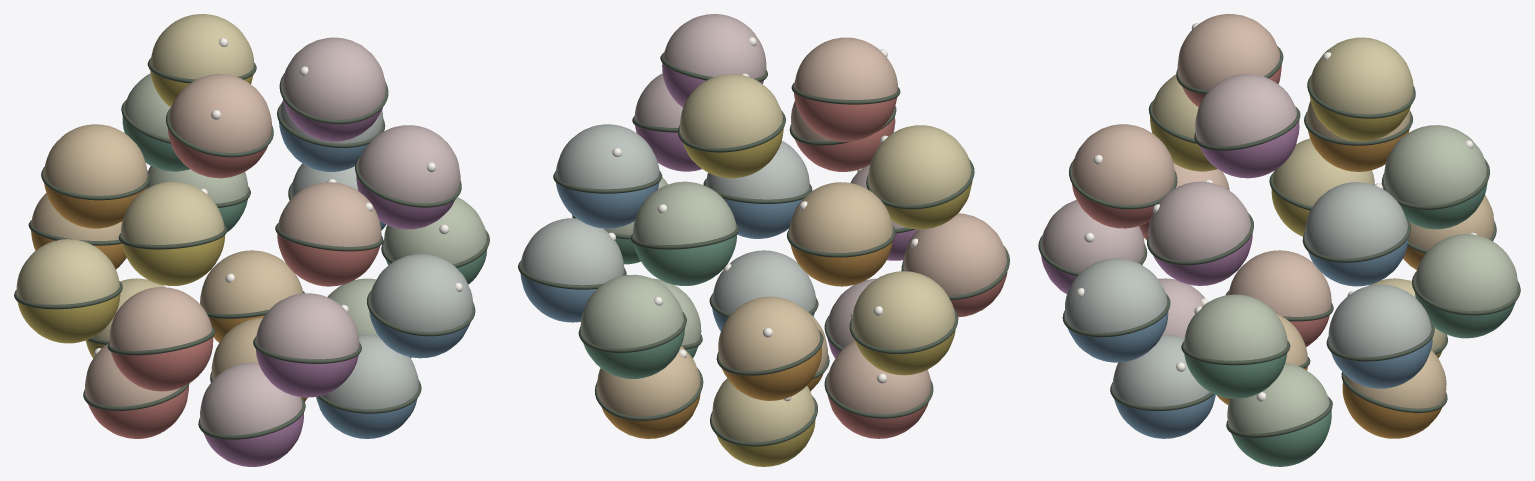
Rendered from hopper.glb.
The picture shows the model from 3 angles, left to right: view 1: azimuth 30°, elevation 25°; view 2: azimuth 150°, elevation 25°; view 3: azimuth 270°, elevation 25°; orthographic projection.
Visible parts, largest first — view 1: HopperBall11_Batch0, HopperBall10_Batch0, HopperBall9_Batch0, HopperBall17_Batch0, HopperBall16_Batch0, HopperBall8_Batch0, HopperBall22_Batch0, HopperBall21_Batch0, HopperBall18_Batch0, HopperBall15_Batch0, HopperBall3_Batch0, HopperBall2_Batch0 (+26 smaller); view 2: HopperBall22_Batch0, HopperBall23_Batch0, HopperBall18_Batch0, HopperBall19_Batch0, HopperBall13_Batch0, HopperBall11_Batch0, HopperBall12_Batch0, HopperBall17_Batch0, HopperBall20_Batch0, HopperBall14_Batch0, HopperBall10_Batch0, HopperBall4_Batch0 (+25 smaller); view 3: HopperBall21_Batch0, HopperBall7_Batch0, HopperBall14_Batch0, HopperBall20_Batch0, HopperBall15_Batch0, HopperBall23_Batch0, HopperBall8_Batch0, HopperBall13_Batch0, HopperBall19_Batch0, HopperBall16_Batch0, HopperBall1_Batch0, HopperBall2_Batch0 (+26 smaller).
Part boxes in pixels (<box>): HopperBall11_Batch0: <box>16,239,120,343</box>; HopperBall10_Batch0: <box>109,287,213,391</box>; HopperBall9_Batch0: <box>256,293,359,397</box>; HopperBall17_Batch0: <box>121,181,224,285</box>; HopperBall16_Batch0: <box>277,182,381,286</box>; HopperBall8_Batch0: <box>369,254,472,358</box>; HopperBall22_Batch0: <box>167,74,271,178</box>; HopperBall21_Batch0: <box>282,37,385,141</box>; HopperBall18_Batch0: <box>43,124,147,228</box>; HopperBall15_Batch0: <box>356,125,460,229</box>; HopperBall3_Batch0: <box>200,362,303,466</box>; HopperBall2_Batch0: <box>316,334,418,438</box>; HopperBall22_Batch0: <box>794,37,897,141</box>; HopperBall23_Batch0: <box>679,74,783,178</box>; HopperBall18_Batch0: <box>789,182,893,286</box>; HopperBall19_Batch0: <box>633,181,736,285</box>; HopperBall13_Batch0: <box>580,274,684,378</box>; HopperBall11_Batch0: <box>852,271,955,375</box>; HopperBall12_Batch0: <box>718,296,821,400</box>; HopperBall17_Batch0: <box>868,125,972,229</box>; HopperBall20_Batch0: <box>555,124,659,228</box>; HopperBall14_Batch0: <box>520,218,624,322</box>; HopperBall10_Batch0: <box>903,213,1007,317</box>; HopperBall4_Batch0: <box>827,341,930,438</box>; HopperBall21_Batch0: <box>1195,74,1299,178</box>; HopperBall7_Batch0: <box>1184,294,1287,398</box>; HopperBall14_Batch0: <box>1328,284,1432,388</box>; HopperBall20_Batch0: <box>1304,182,1408,286</box>; HopperBall15_Batch0: <box>1148,181,1252,285</box>; HopperBall23_Batch0: <box>1309,37,1413,141</box>; HopperBall8_Batch0: <box>1064,258,1168,362</box>; HopperBall13_Batch0: <box>1414,234,1518,338</box>; HopperBall19_Batch0: <box>1383,125,1487,229</box>; HopperBall16_Batch0: <box>1071,124,1175,228</box>; HopperBall1_Batch0: <box>1227,363,1331,466</box>; HopperBall2_Batch0: <box>1112,334,1215,438</box>.
Bounding box in the file's own units: 0.1634 × 0.1354 × 0.1634.
